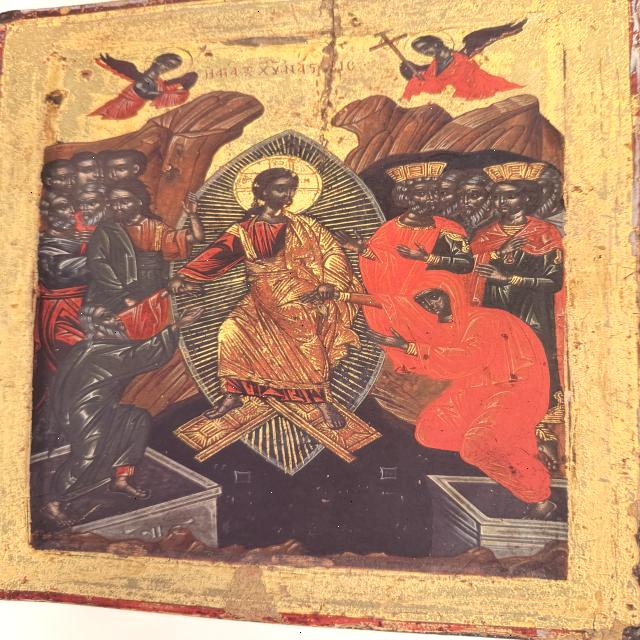angel: (358, 22, 548, 108), (67, 42, 227, 124)
aura: (230, 157, 324, 217), (146, 47, 199, 77), (407, 30, 459, 60)
christ_pantocrator: (157, 128, 403, 462)
crown: (478, 162, 556, 184), (385, 161, 451, 185)
wing: (458, 17, 541, 55), (93, 47, 144, 83), (161, 73, 207, 94), (397, 59, 433, 81)
